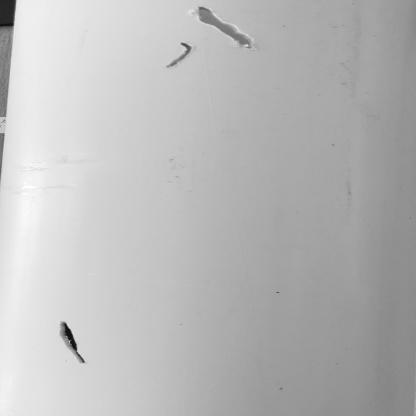fengxi: (163, 34, 199, 74)
kongdong: (47, 289, 93, 371)
sunshang: (190, 4, 274, 53)
